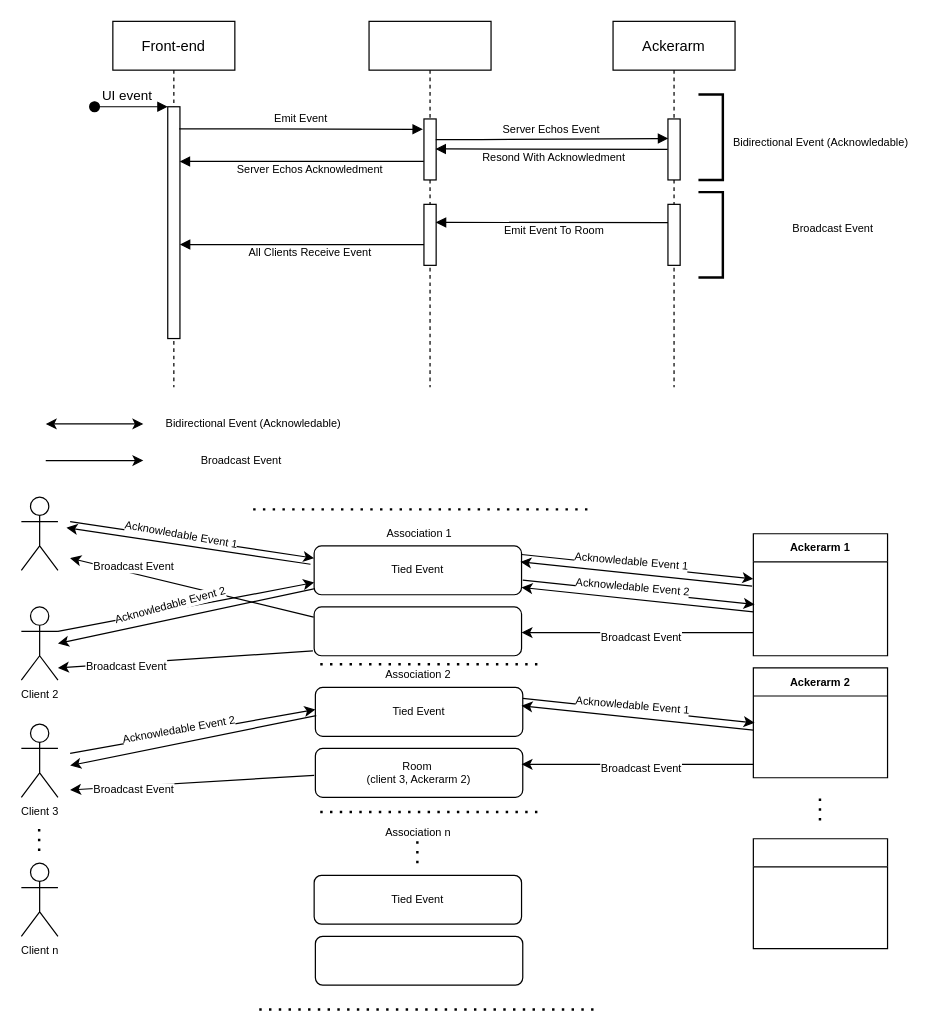
Image size: 939x1033. Some labels were removed from this diagram. Each missing label, with the centre of its shape:
Ackerarm n: the point at 820,893
Back-end: the point at 429,203
Client 1: the point at 39,533
Room (client 1, Client 2, Ackerarm 1): the point at 417,631
Room (client n....., Ackerarm n.....): the point at 418,960
